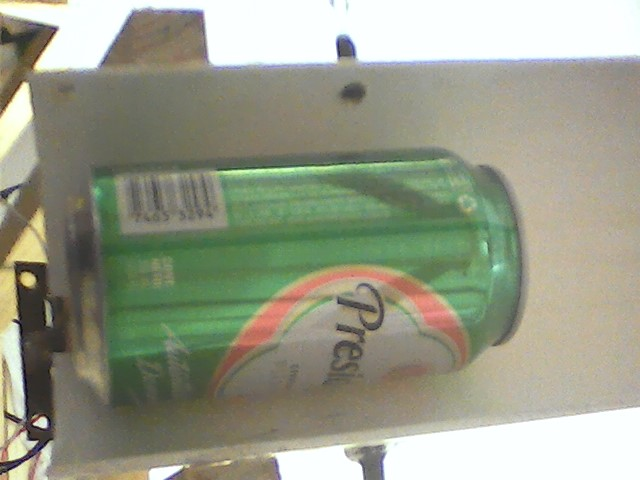lata: (52, 135, 545, 409)
